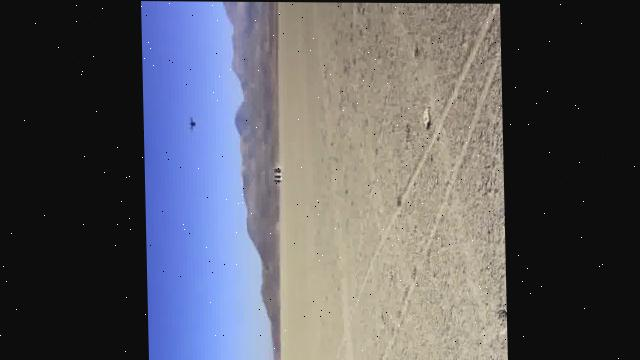drone: (184, 115, 196, 132)
